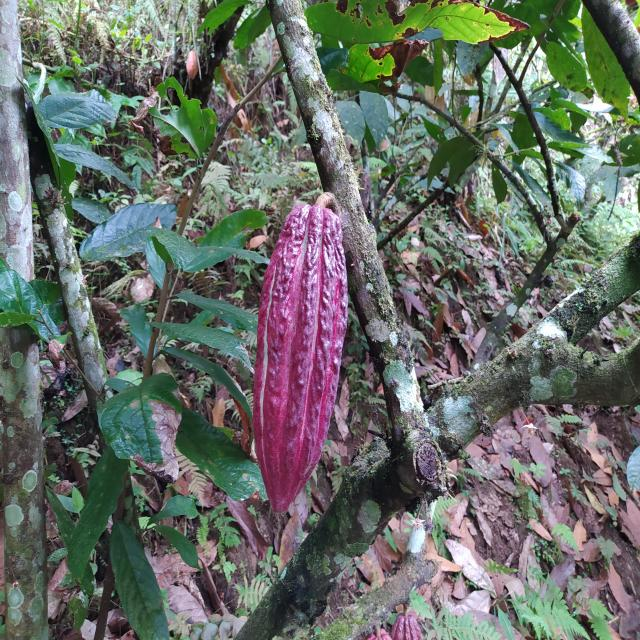Sana: (256, 205, 345, 519)
